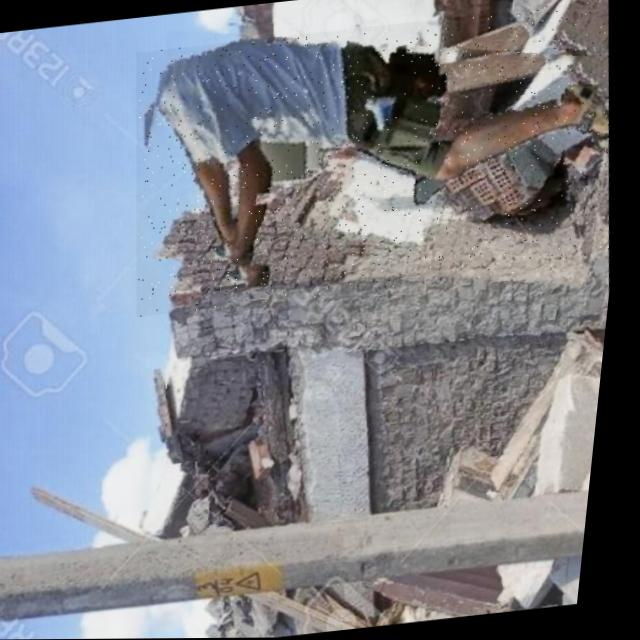Person in Rubble: (115, 0, 636, 316)
